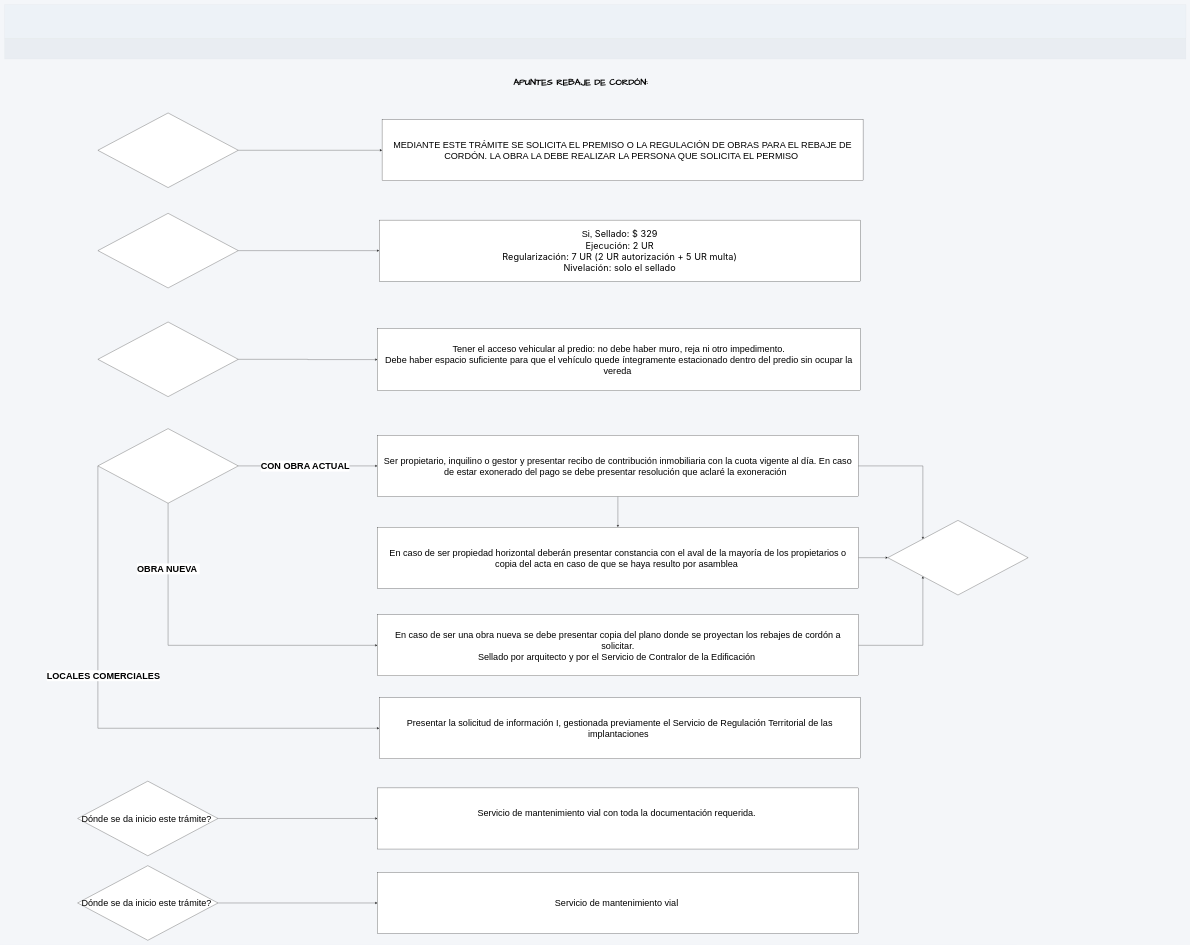
Some shapes in this 1190 by 945 pixel diagram are drawn without their labels. The box of each missing label's shape, as (x1, y1, x2, y2) in pixels:
Cómo es el trámite?: (98, 113, 238, 188)
En que casos se puede dar inicio al trámite?: (98, 322, 238, 397)
Es un trámite con costo ?: (98, 213, 238, 288)
Qué debe presentar el ciudadano?: (98, 428, 238, 503)
Qué formulario deben completar y presentar?: (888, 520, 1028, 595)
